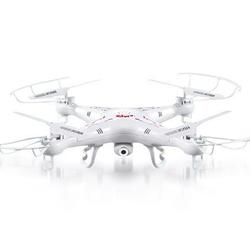drone: (1, 71, 250, 172)
